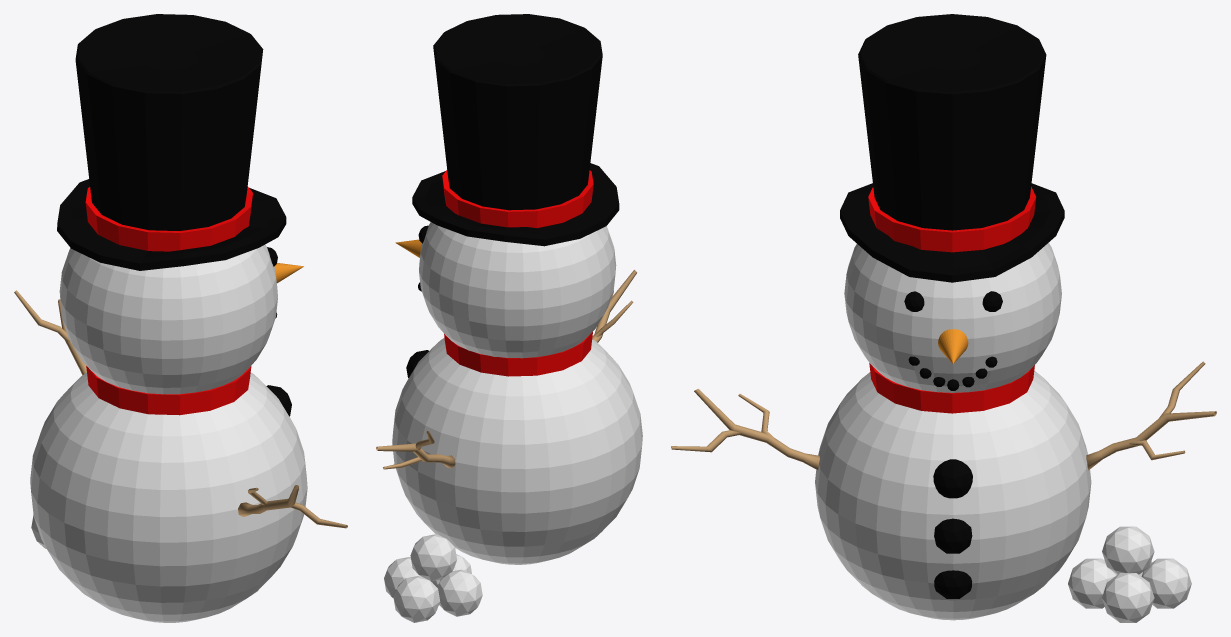
The model's file is SnowMan.fbx.
3 views of the same model, side by side, from view 1: azimuth 30°, elevation 25°; view 2: azimuth 150°, elevation 25°; view 3: azimuth 270°, elevation 25° (orthographic). The views are drawn at different scales.
Parts seen in each view (by area): view 1: Icosphere.001; view 2: Icosphere.001; view 3: Icosphere.001.
Part boxes in pixels (<box>): Icosphere.001: <box>14,14,347,622</box>; Icosphere.001: <box>376,14,642,622</box>; Icosphere.001: <box>671,14,1216,622</box>.
Size of the model in its own units: 213 by 443 by 395.
